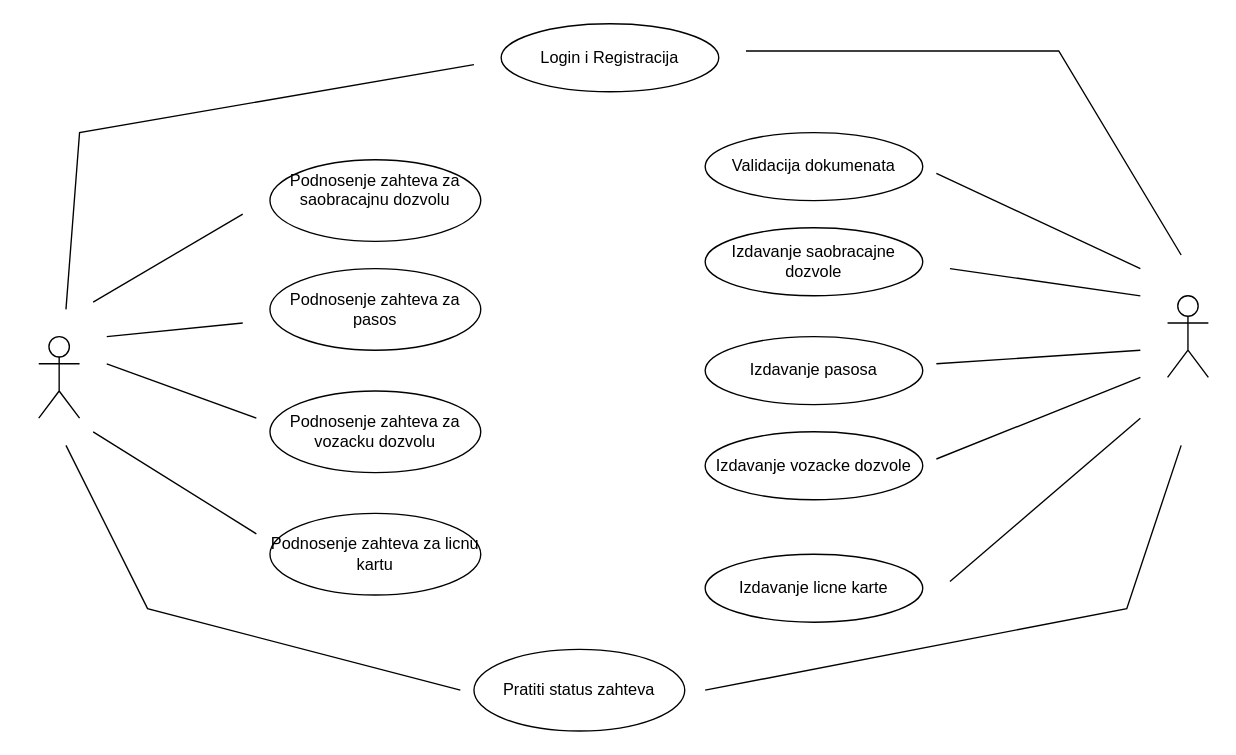
Image size: 1236x755. Some labels were removed from this diagram. The shapes that lost their labels are listed below. From the top down, each one's box as (x1, y1, x2, y2) in pixels, then its label:
(1166, 294, 1208, 377): Policija
(37, 335, 80, 418): Gradjanin
